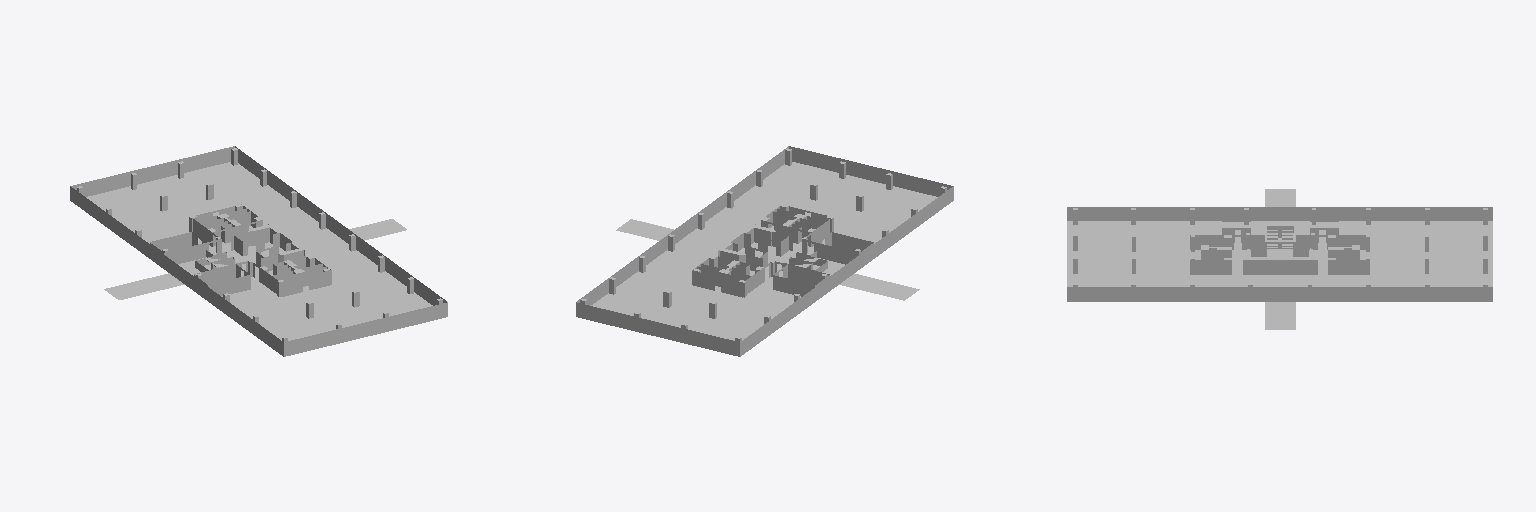
The model's file is tablas2-P2.obj.
The picture shows the model from 3 angles: view 1: azimuth 30°, elevation 25°; view 2: azimuth 150°, elevation 25°; view 3: azimuth 270°, elevation 25°; orthographic projection.
Parts seen in each view (by area): view 1: Suelo_Cube.063, Pared_Exterior_Cube.031, Habitaciones_Cube.062, Plane, Columna.017_Cube.050; view 2: Suelo_Cube.063, Pared_Exterior_Cube.031, Habitaciones_Cube.062, Plane, Columna.017_Cube.050; view 3: Suelo_Cube.063, Pared_Exterior_Cube.031, Habitaciones_Cube.062, Plane, Columna.017_Cube.050.
Boxes of the visible parts, box(x1,y1,x2,y2) form: Suelo_Cube.063: box(86, 162, 432, 340); Pared_Exterior_Cube.031: box(70, 146, 447, 356); Habitaciones_Cube.062: box(150, 204, 331, 296); Plane: box(104, 219, 406, 299); Columna.017_Cube.050: box(77, 148, 442, 341); Suelo_Cube.063: box(591, 162, 937, 340); Pared_Exterior_Cube.031: box(576, 146, 953, 356); Habitaciones_Cube.062: box(692, 206, 873, 297); Plane: box(616, 219, 919, 300); Columna.017_Cube.050: box(580, 148, 946, 340); Suelo_Cube.063: box(1067, 221, 1492, 286); Pared_Exterior_Cube.031: box(1067, 207, 1492, 301); Habitaciones_Cube.062: box(1190, 207, 1369, 274); Plane: box(1265, 189, 1295, 329); Columna.017_Cube.050: box(1073, 208, 1487, 286).
Size of the model in its own units: 10.22 by 0.7745 by 13.07.